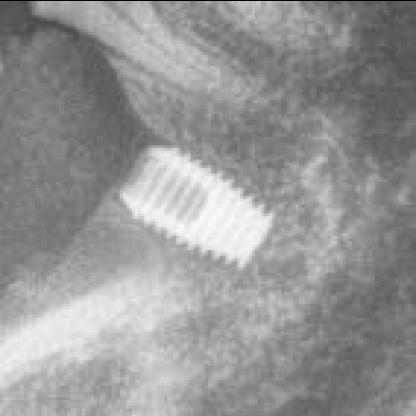Bicon: (102, 134, 282, 284)
